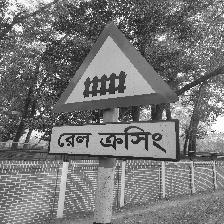Rail-crossing: (48, 21, 181, 164)
